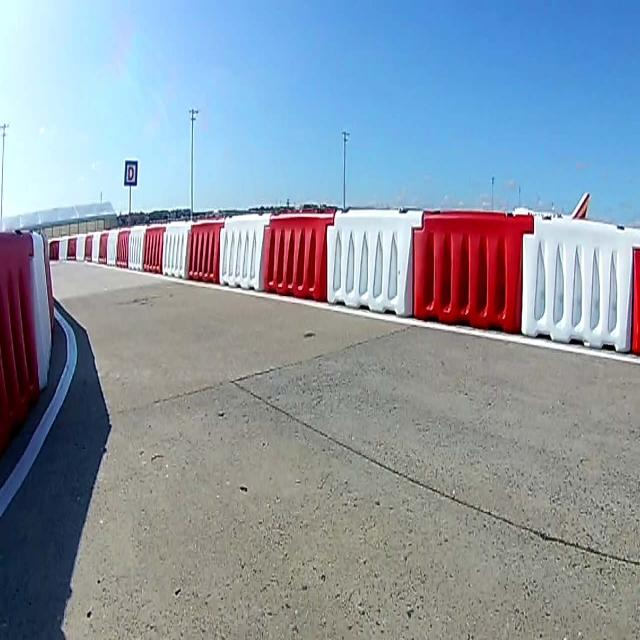durak: (124, 161, 137, 186)
